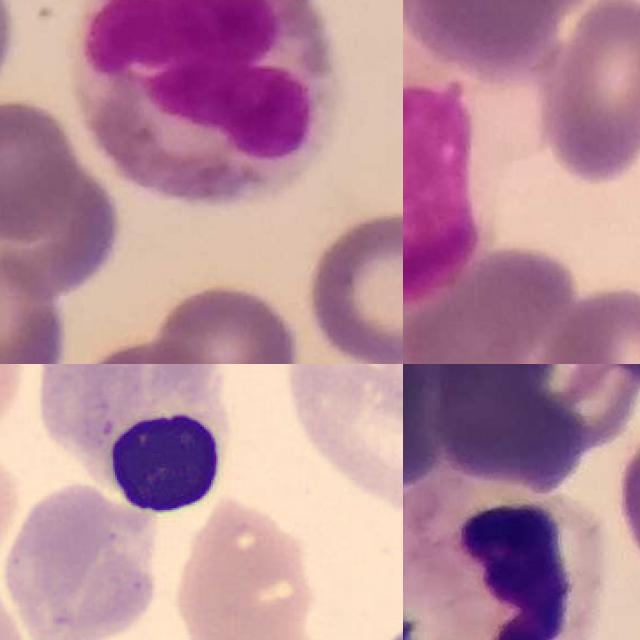Eosinophil: (70, 0, 337, 203)
Lymphocyte: (32, 364, 245, 516)
Monocyte: (403, 20, 504, 308)
Neutrophil: (403, 476, 603, 640)
RBC: (0, 478, 165, 640), (157, 492, 337, 640), (276, 364, 403, 526)
